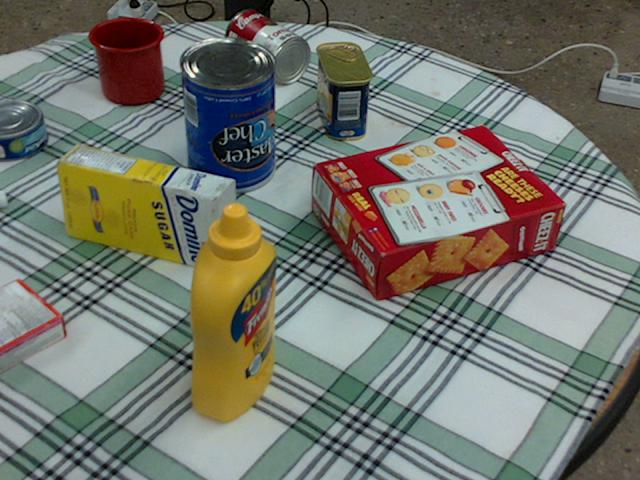cracker_box: (313, 125, 565, 301)
gelatin_box: (0, 278, 66, 372)
large_marker: (0, 190, 7, 207)
master_chef_can: (177, 37, 273, 192)
mug: (90, 17, 165, 103)
mustard_bottle: (189, 203, 275, 419)
potted_meat_can: (314, 42, 371, 139)
sugar_box: (56, 144, 235, 272)
tomato_soup_can: (225, 9, 308, 82)
tuna_fish_can: (0, 99, 47, 160)
